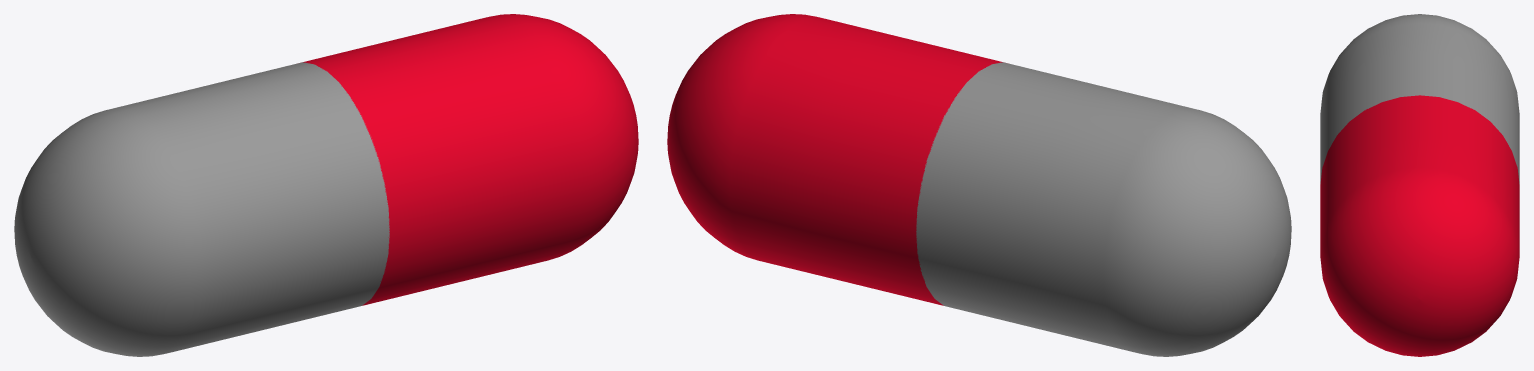
The model's file is kapsul.glb.
The picture shows the model from 3 angles, left to right: view 1: azimuth 30°, elevation 25°; view 2: azimuth 150°, elevation 25°; view 3: azimuth 270°, elevation 25°; orthographic projection. The views are drawn at different scales.
Parts seen in each view (by area): view 1: Cylinder; view 2: Cylinder; view 3: Cylinder.
Boxes of the visible parts, x1,y1,x2,y2 form: Cylinder: [14, 14, 638, 356]; Cylinder: [667, 14, 1291, 356]; Cylinder: [1320, 14, 1519, 356].
Bounding box in the file's own units: 5.41 × 2 × 2.
